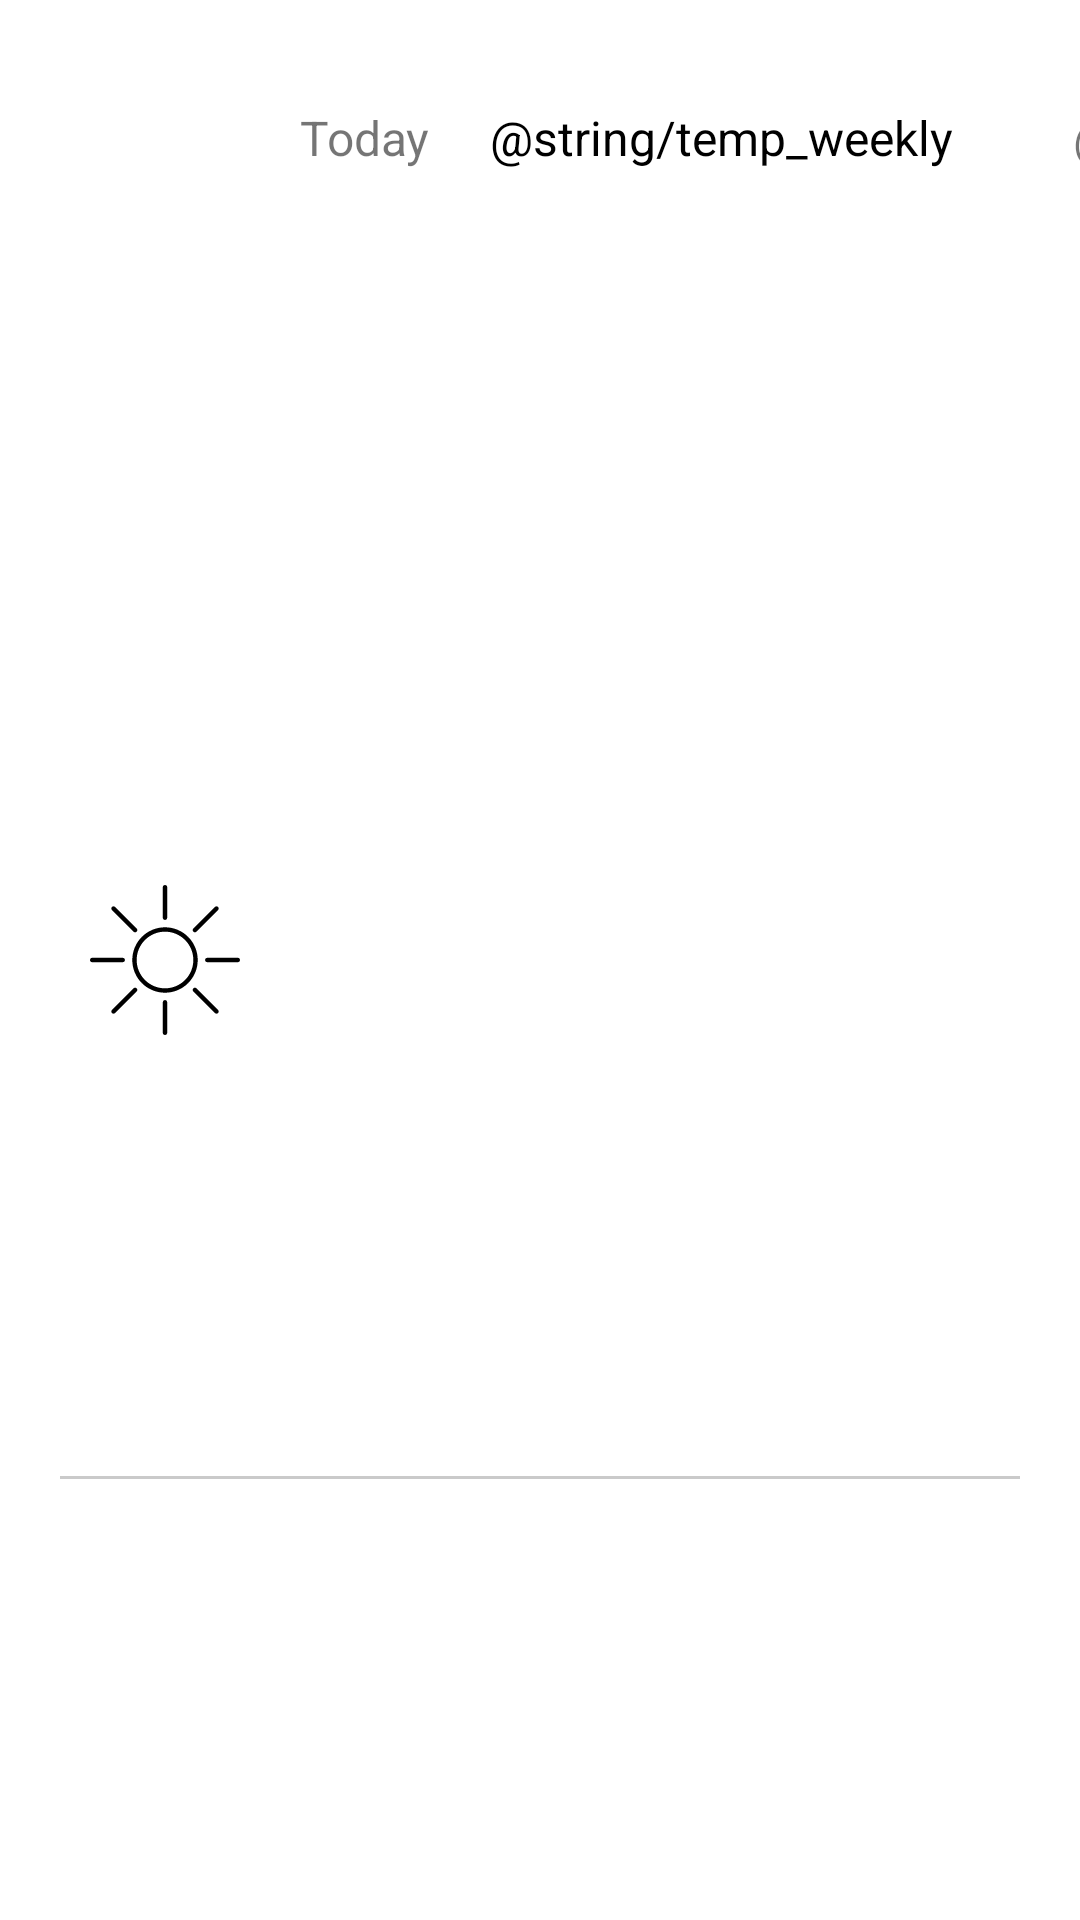

Where to tap for icons on this 1080w x 1920h app screen, as [x,y]:
sun: [165,960]
